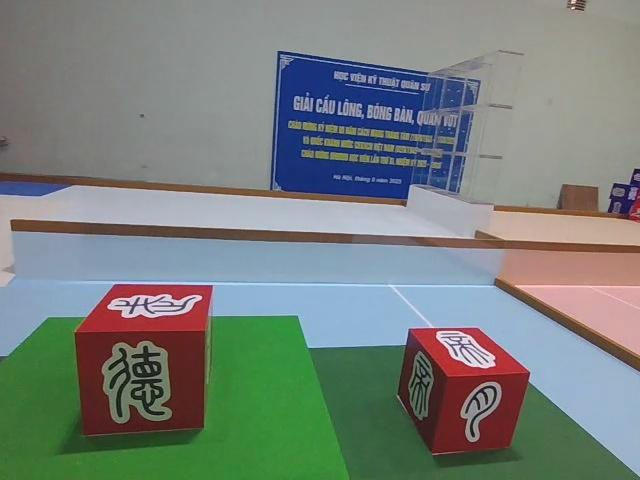R2 Fake: (73, 281, 218, 441), (396, 324, 528, 458)
